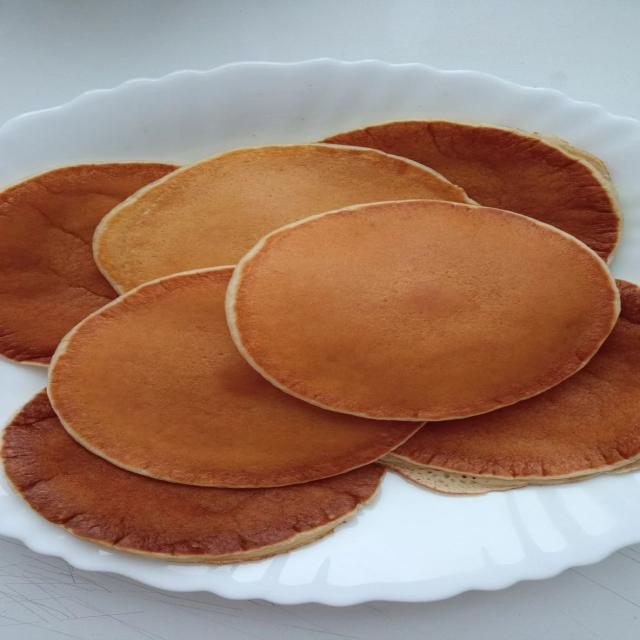pancake: (227, 201, 619, 420), (48, 268, 418, 487), (2, 392, 383, 564), (94, 144, 469, 292), (391, 281, 639, 483), (324, 120, 620, 259), (0, 163, 176, 364), (380, 456, 597, 494), (380, 457, 526, 494), (607, 460, 639, 474)
